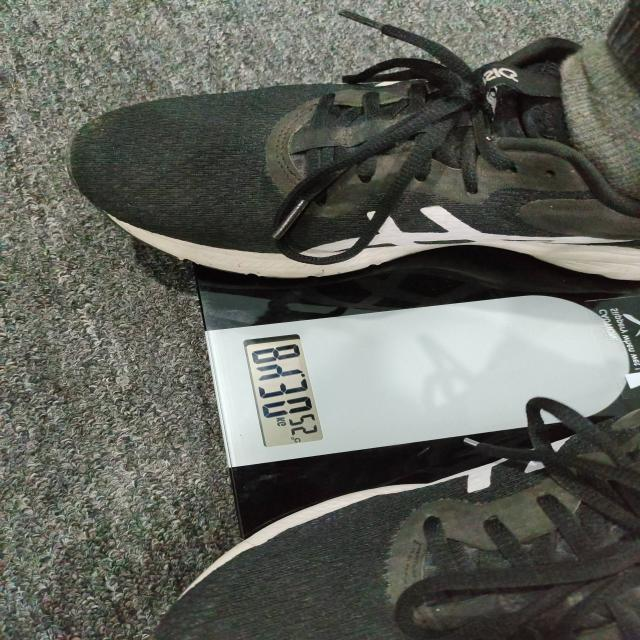ws: (207, 297, 631, 496)
